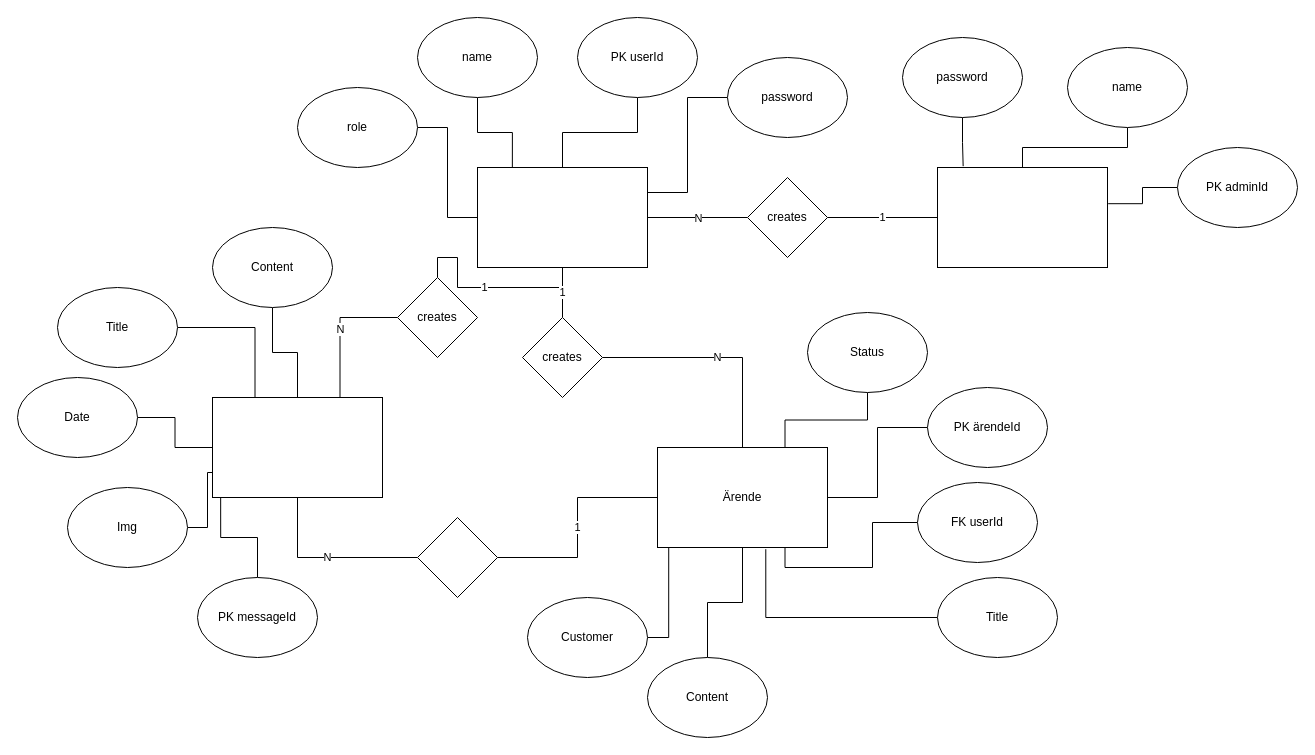
Some shapes in this 1315 by 755 pixel diagram are drawn without their labels. Here are the shapes that lost their labels. From the top down, the box of each, then its label:
(476, 166, 648, 268): user
(936, 166, 1108, 268): Admin
(212, 396, 382, 498): Message
(416, 516, 498, 598): belongs to
